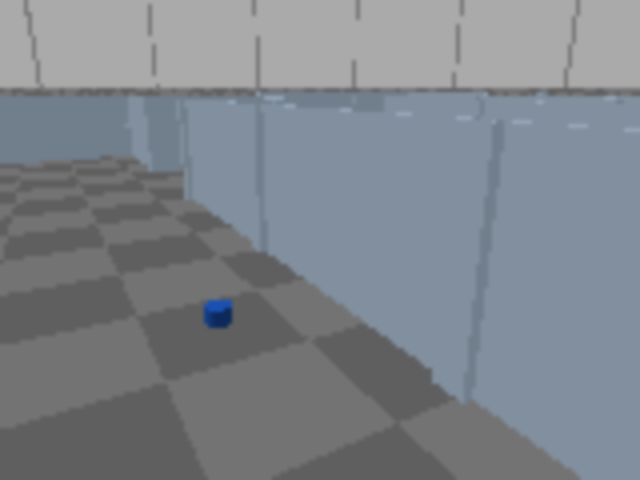puck: (206, 300, 232, 329)
